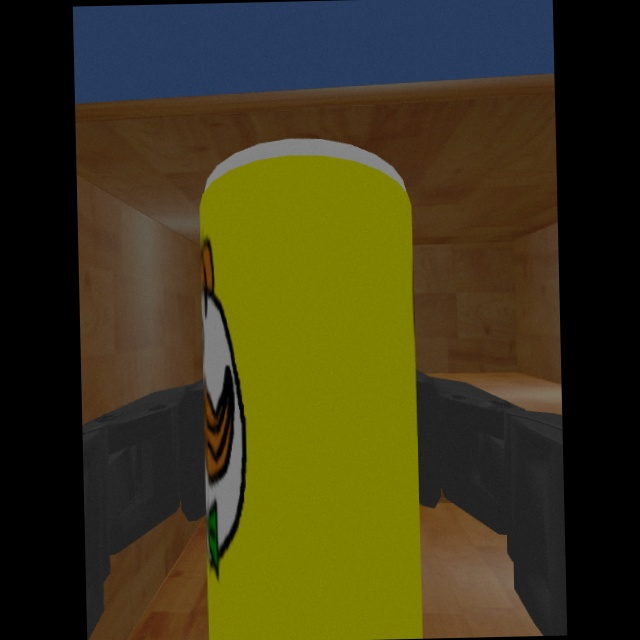chipsdose_gelb: (199, 138, 425, 640)
